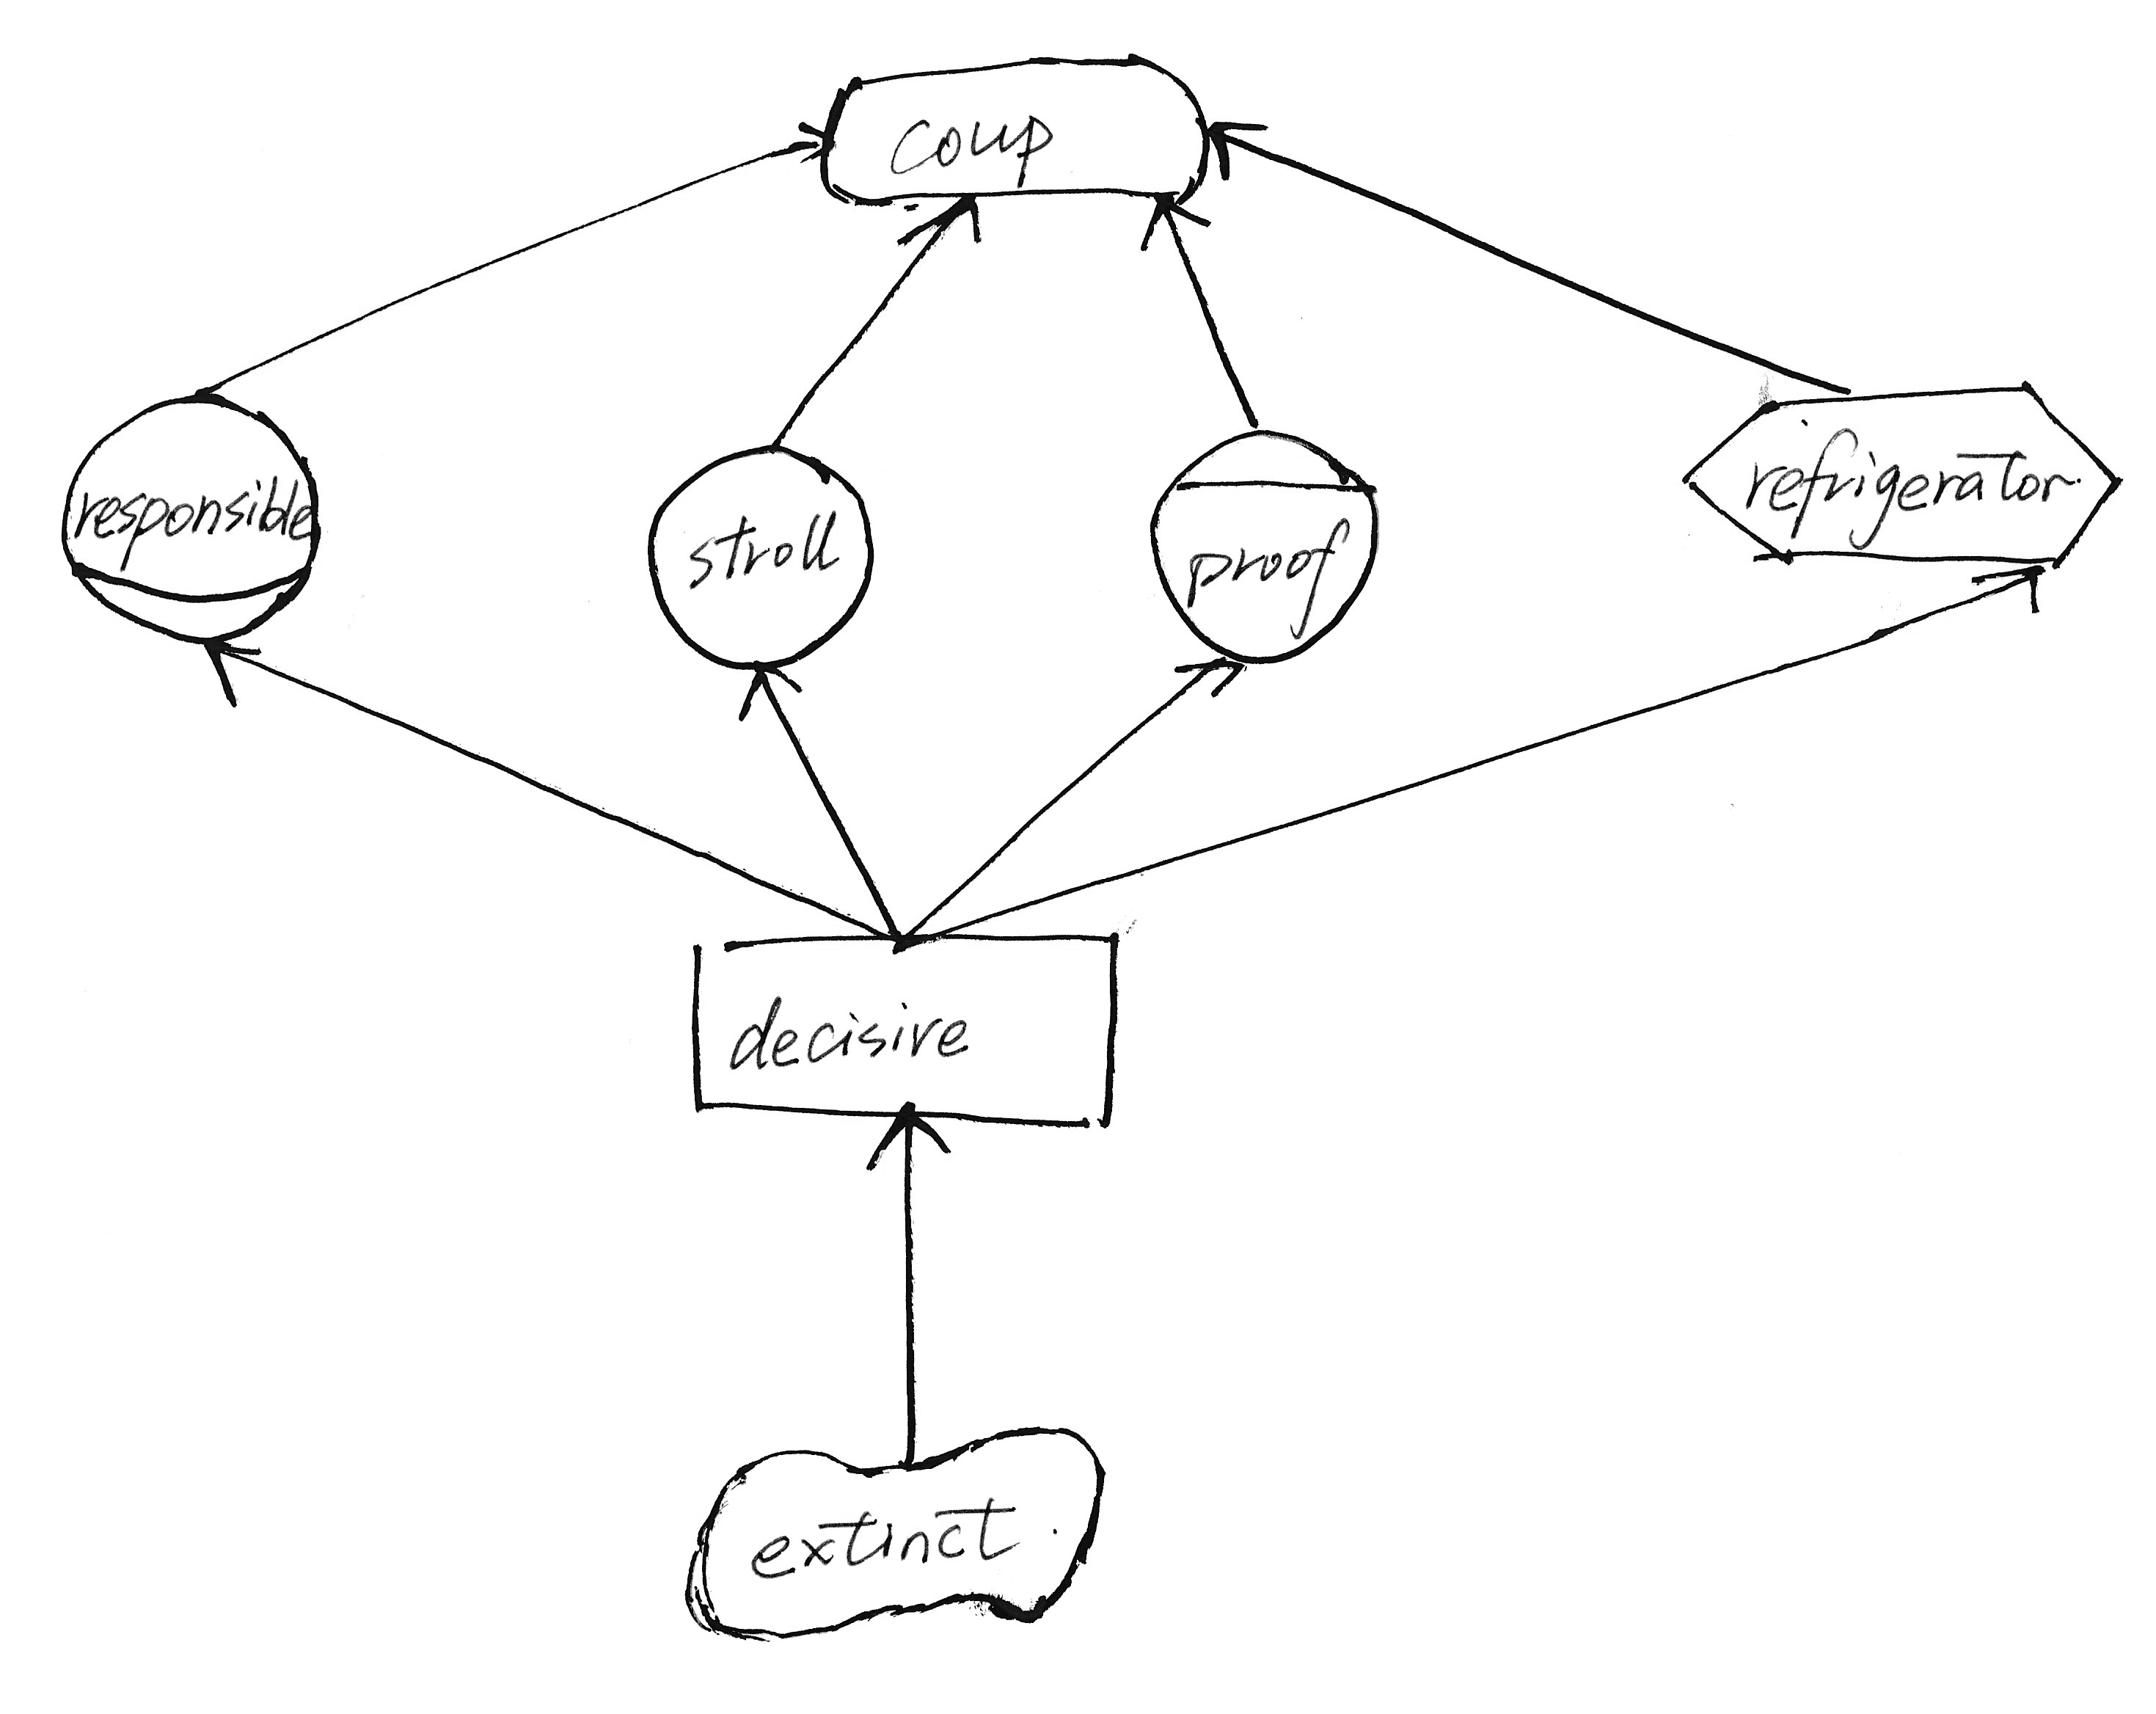actor: (635, 429, 889, 679)
agent: (1143, 415, 1391, 674)
arrow: (191, 622, 278, 711), (863, 1096, 956, 1178), (898, 184, 992, 263), (1972, 548, 2058, 625), (1129, 184, 1214, 257), (730, 655, 814, 728), (1195, 107, 1269, 179), (1171, 644, 1246, 707), (780, 103, 840, 172)
goal: (796, 40, 1235, 226)
quality: (667, 1408, 1118, 1649)
resource: (667, 914, 1148, 1147)
role: (40, 378, 338, 664)
task: (1668, 373, 2142, 588)
